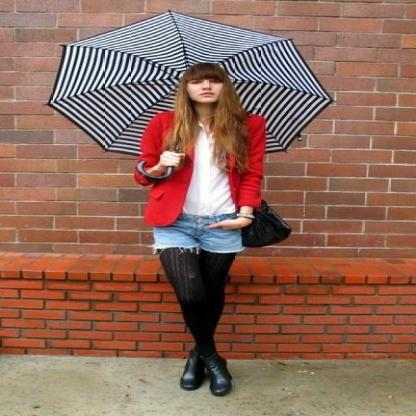bag: (237, 200, 291, 248)
jacket: (130, 110, 286, 226)
shirt: (182, 141, 235, 216)
shoe: (179, 351, 232, 396)
shorts: (151, 205, 253, 253)
